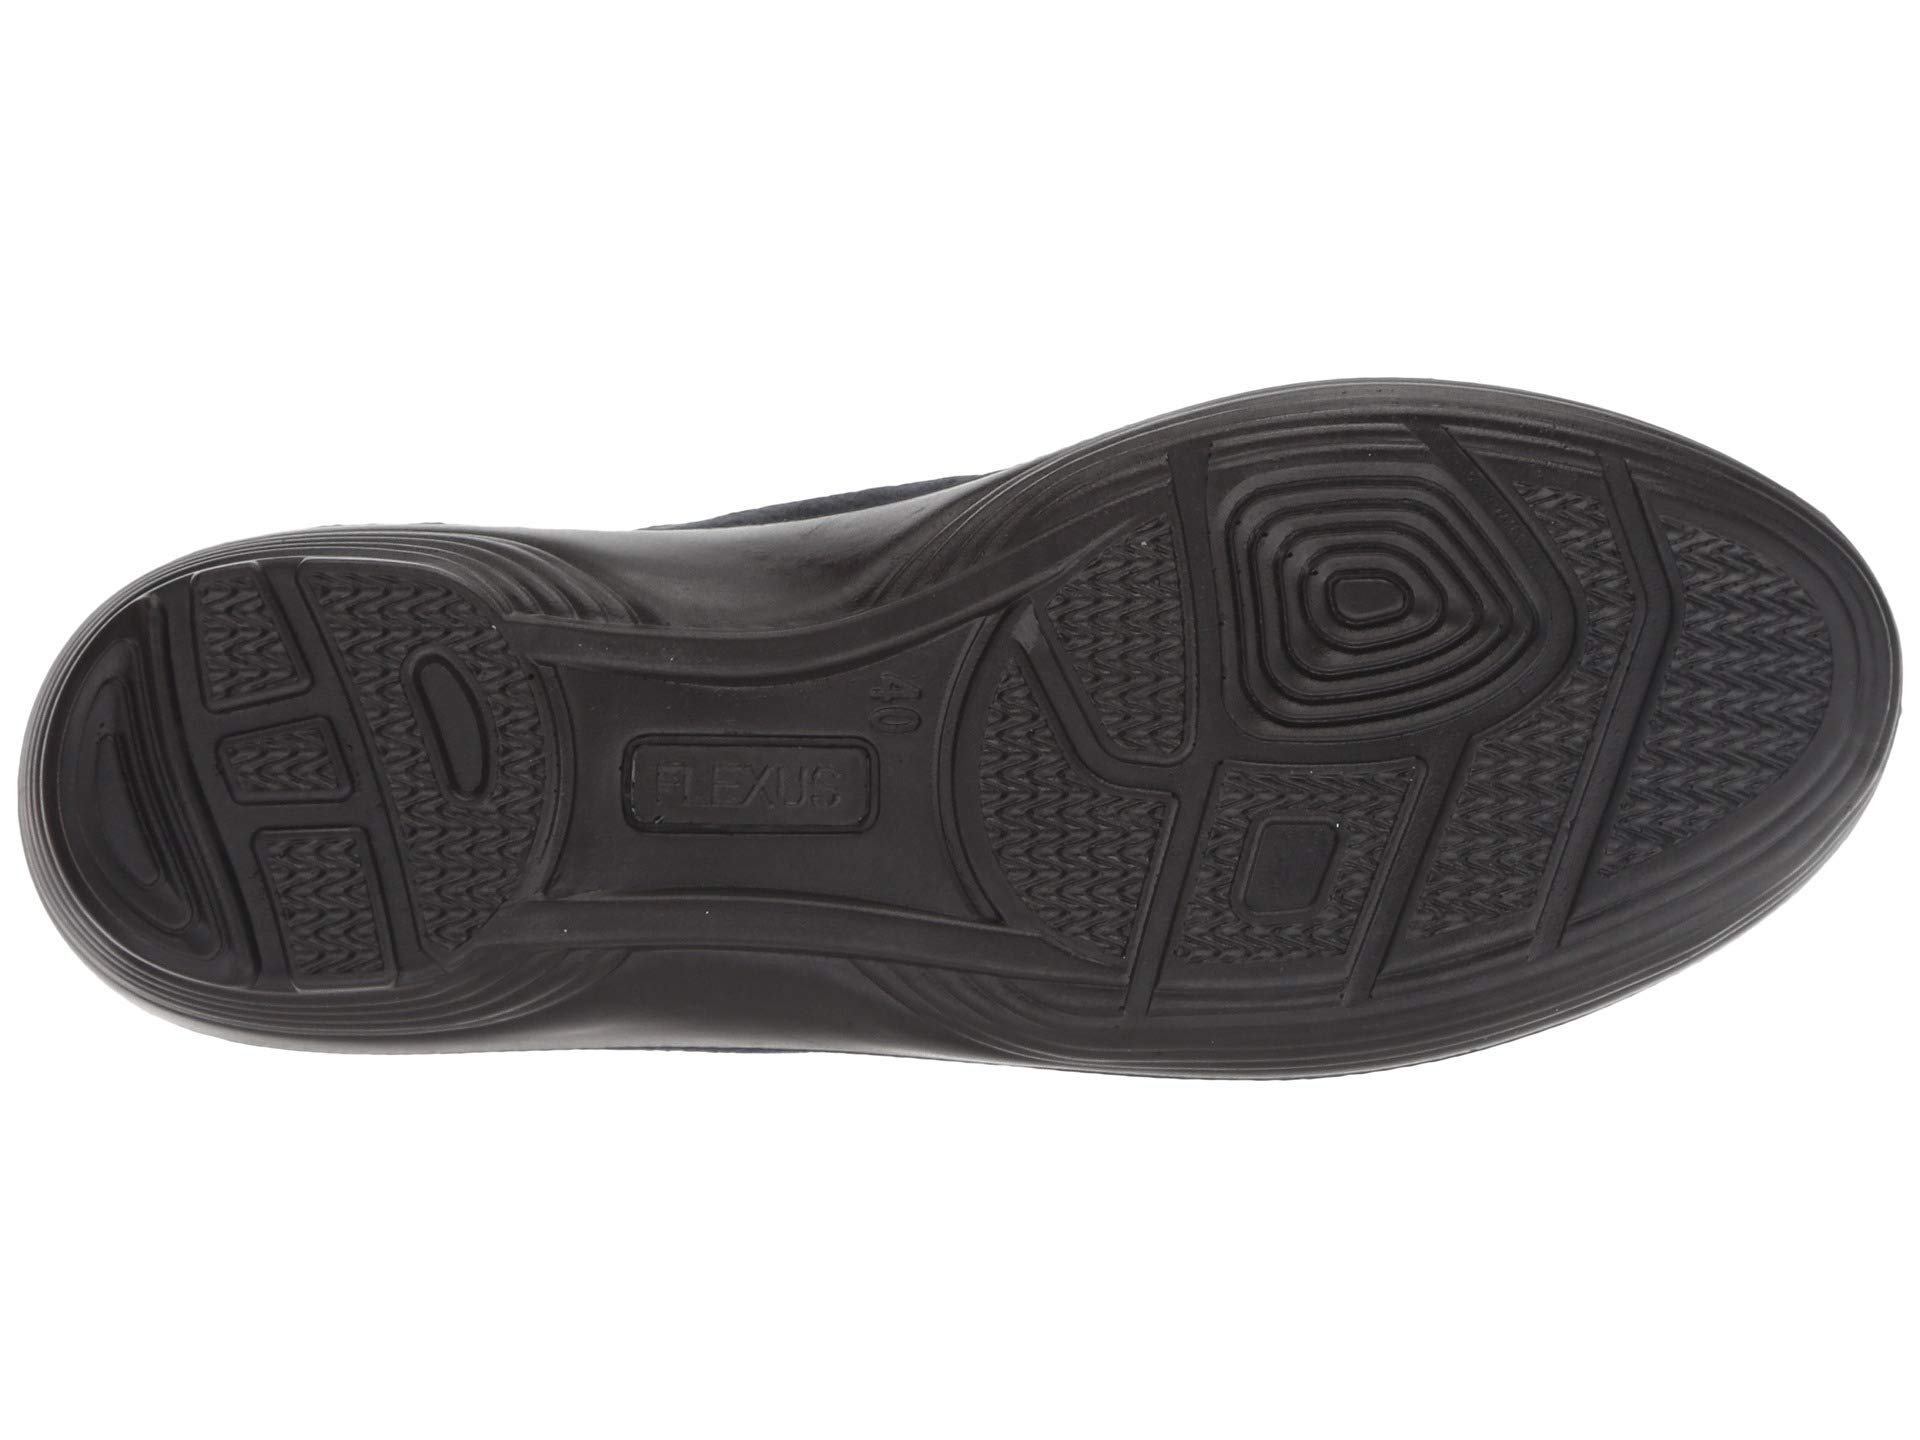chevron: (1172, 445, 1596, 824), (119, 604, 525, 945), (1113, 746, 1433, 1030), (1661, 570, 1837, 774)
circle: (1172, 445, 1596, 824), (119, 604, 525, 945)
line: (1113, 746, 1433, 1030)
quad: (1172, 445, 1596, 824), (119, 604, 525, 945), (1113, 746, 1433, 1030), (600, 722, 890, 874)
text: (600, 722, 890, 874), (856, 663, 936, 756)
